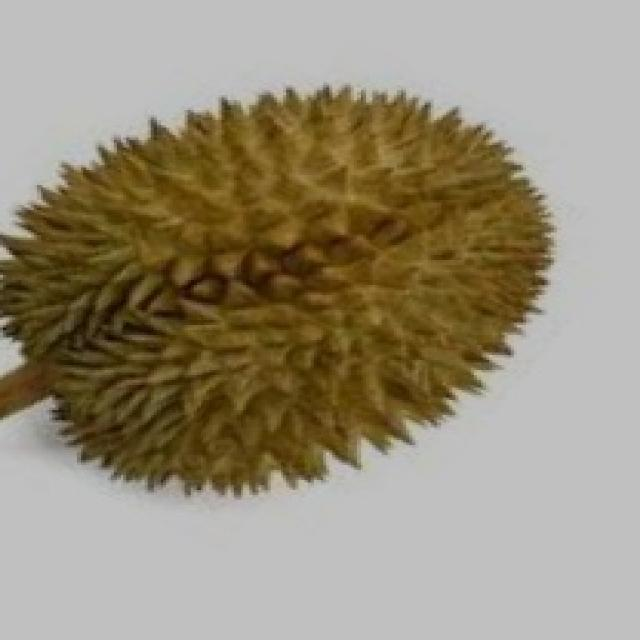fruit: (225, 98, 606, 532), (0, 140, 360, 555)
